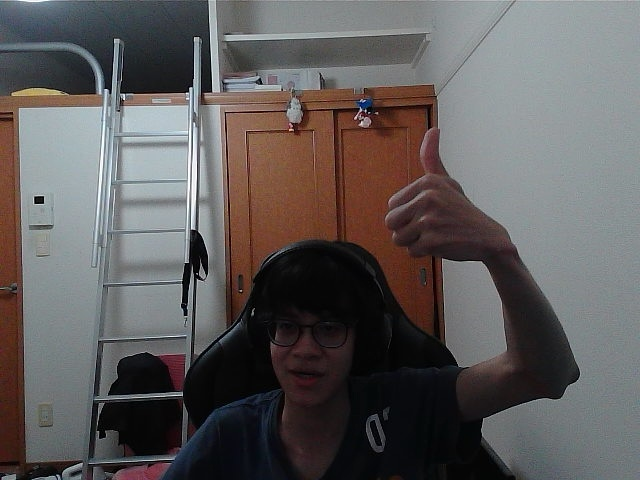thumb_up: (393, 138, 481, 248)
